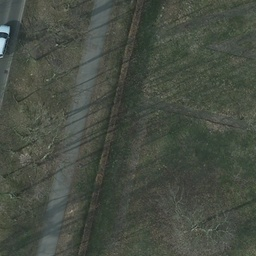car: (1, 24, 10, 57)
